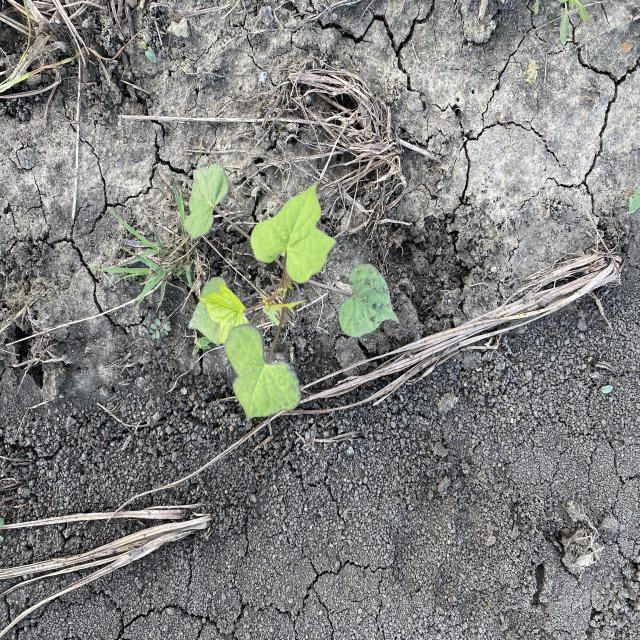MorningGlory: (184, 162, 402, 423)
